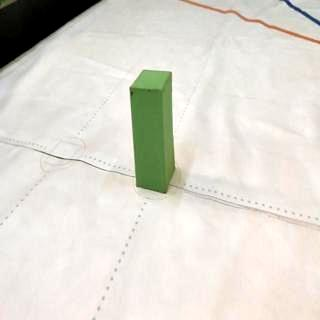greenbox: (128, 69, 176, 195)
